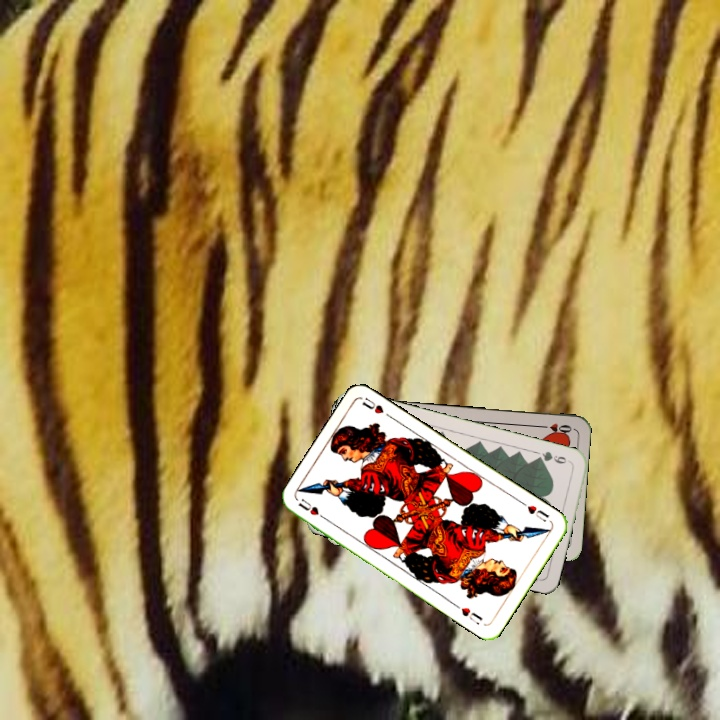G9: (532, 447, 573, 467)
HO: (534, 419, 574, 437)
HU: (294, 494, 330, 523), (523, 501, 552, 525)
